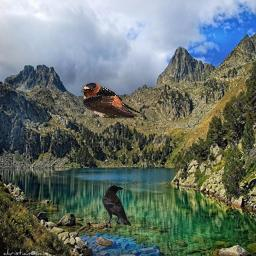Crow: (102, 185, 131, 227)
Swallow: (81, 82, 144, 119)
